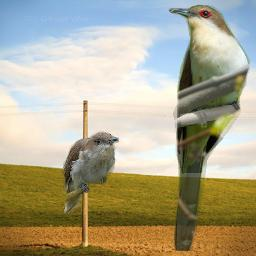Cuckoo: (168, 4, 252, 251), (61, 131, 119, 214)
